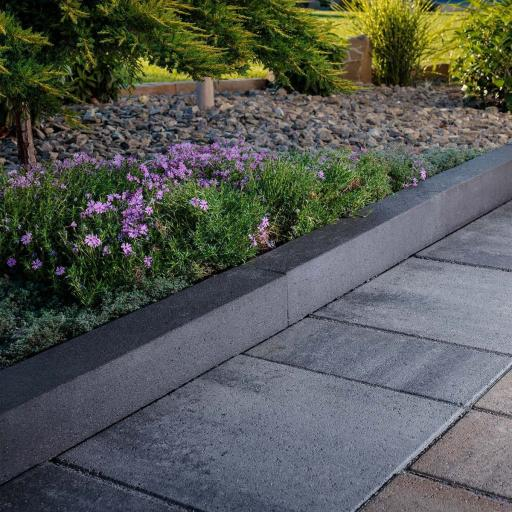glass_wall: (0, 135, 512, 512)
